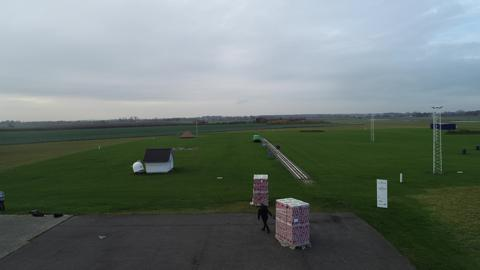RockwoolPallet: (254, 173, 268, 207)
